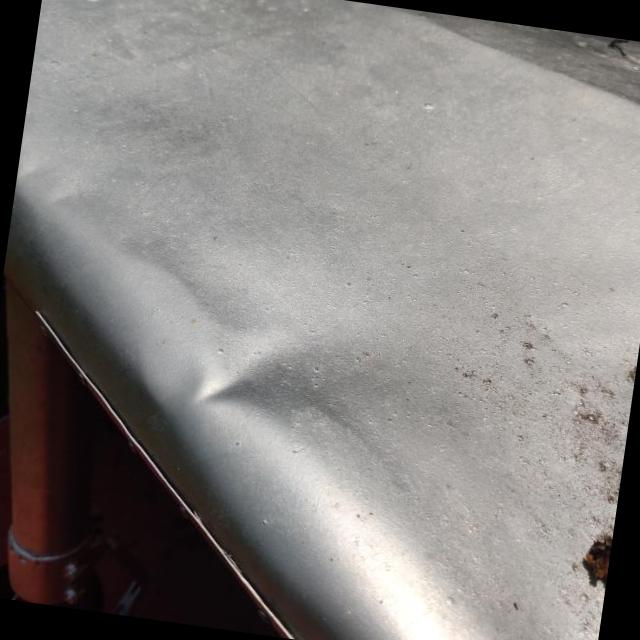Dent: (187, 294, 366, 444)
